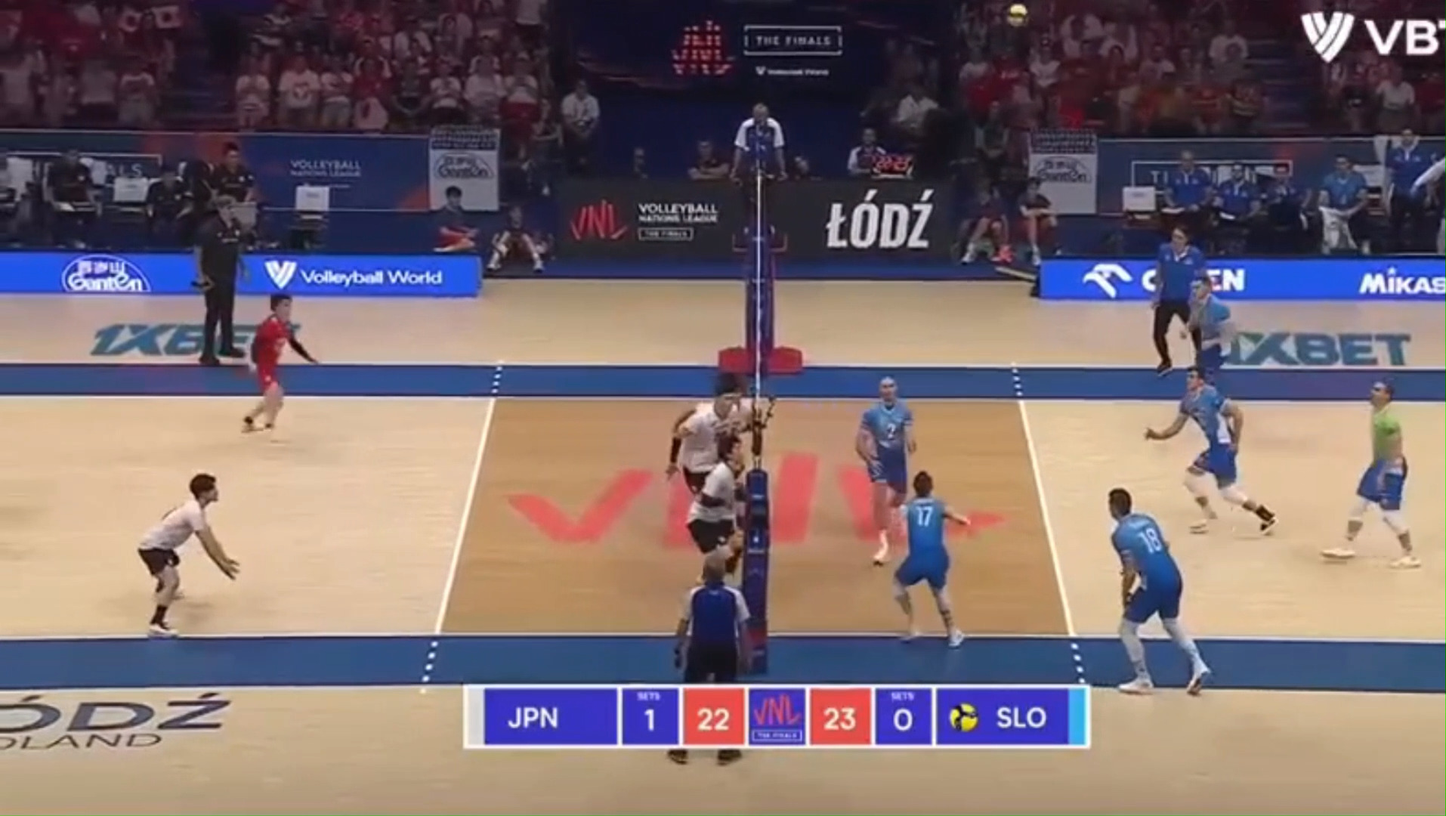ball: (1006, 3, 1028, 26)
player: (1145, 366, 1275, 533), (1108, 488, 1210, 694), (1321, 382, 1420, 568), (892, 471, 969, 647), (855, 377, 916, 565), (1189, 280, 1234, 379)
player 1: (137, 473, 239, 636), (243, 295, 317, 431), (673, 376, 740, 492), (687, 437, 741, 554), (715, 372, 763, 466)
referee: (674, 548, 751, 683), (193, 195, 246, 365), (731, 103, 788, 252), (1152, 227, 1209, 373)
